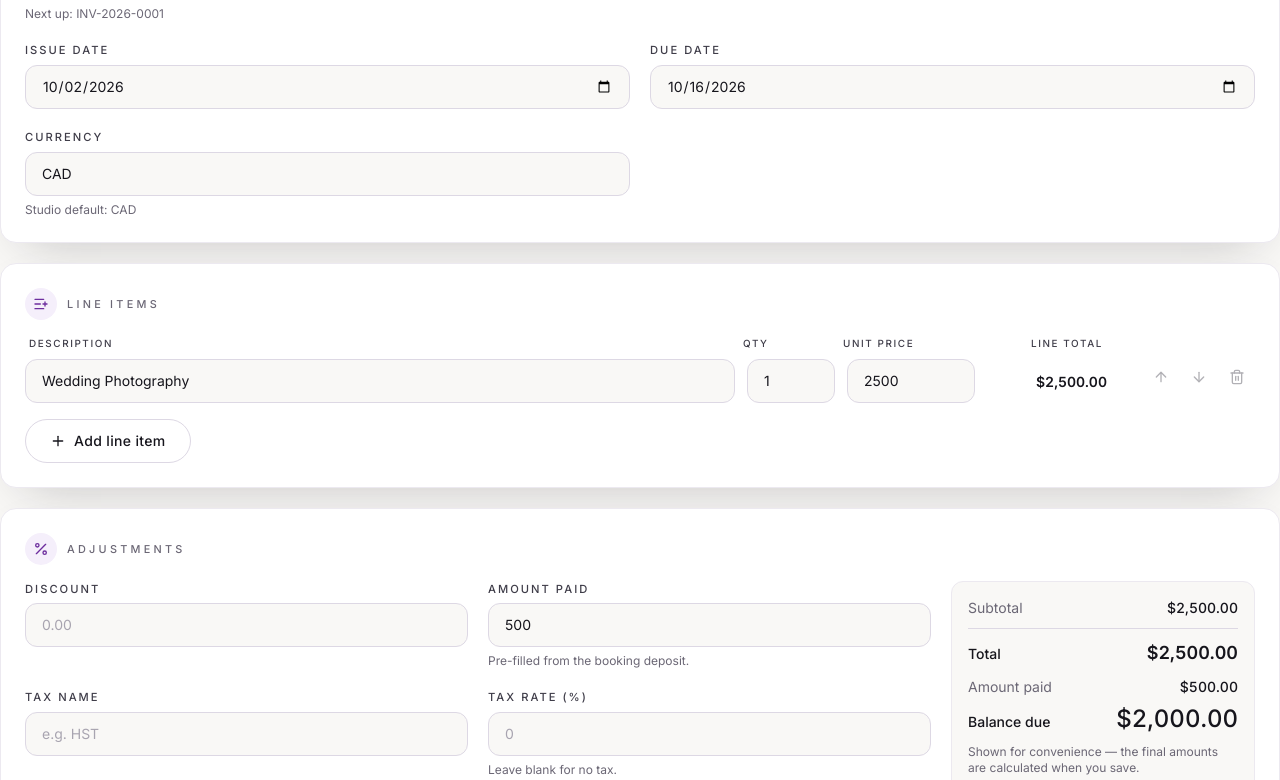
Test: InvoiceForm › updates line total and totals when quantity and price change
The width and height of the screenshot is (1280, 780).
(page scrolled)
Replace the text in the field named "Line 1 quantity" with "2" at (791, 381), box [747,359,835,403]
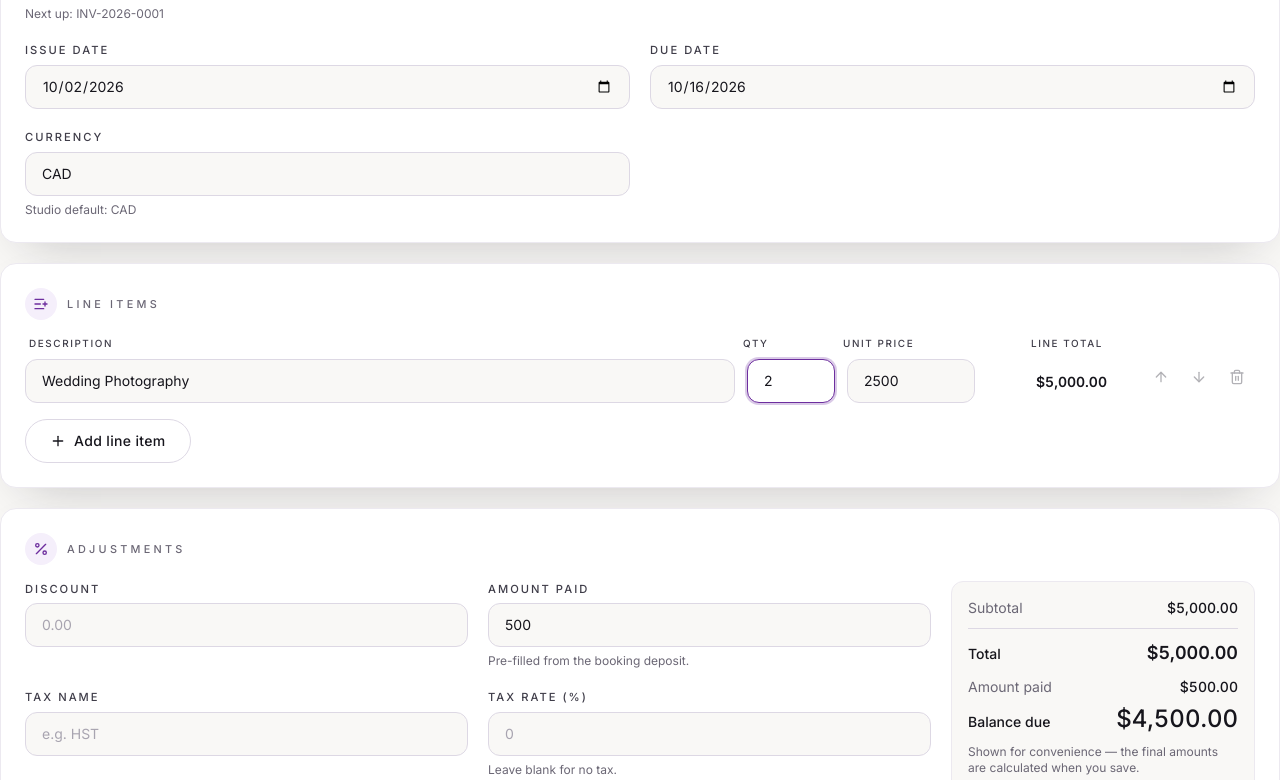
Replace the text in the field named "Line 1 unit price" with "300.50" at (911, 381), box [847,359,975,403]
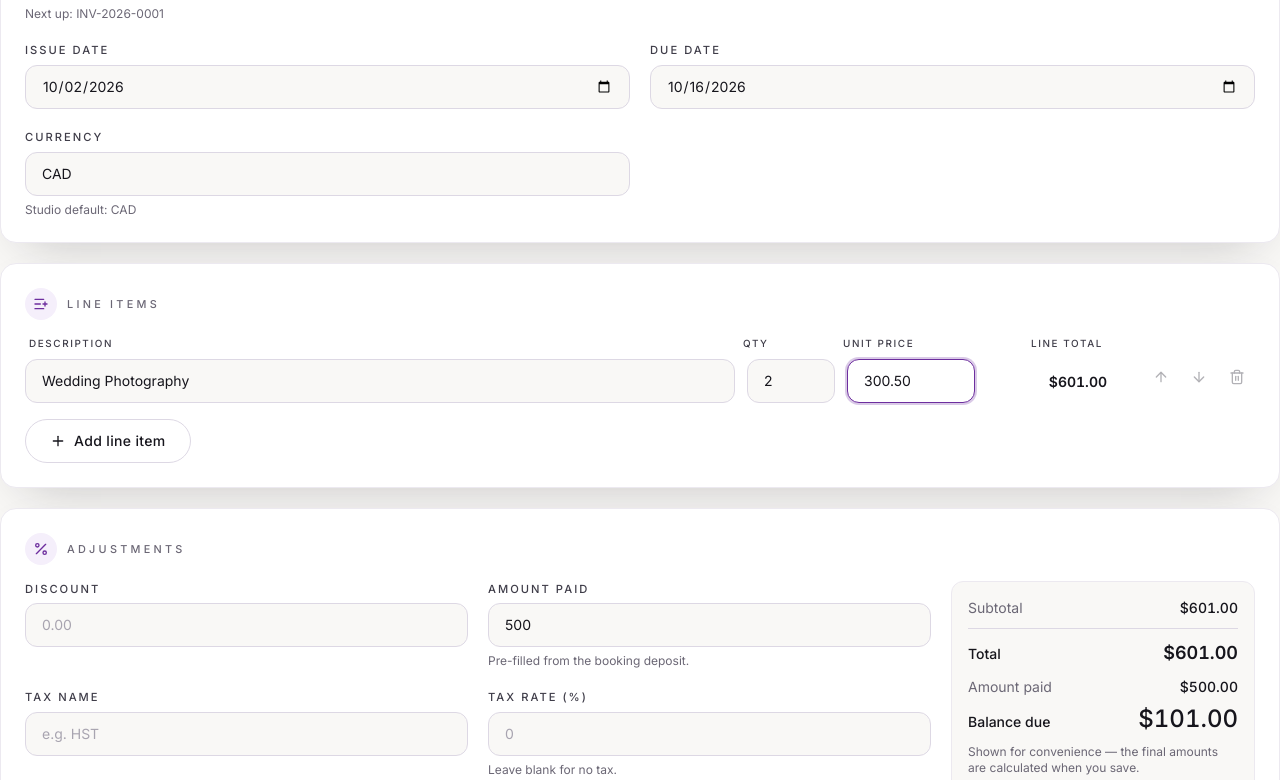
Check: the text named "Line 1 total" reads "$601.00", box [1049,373,1107,390]
